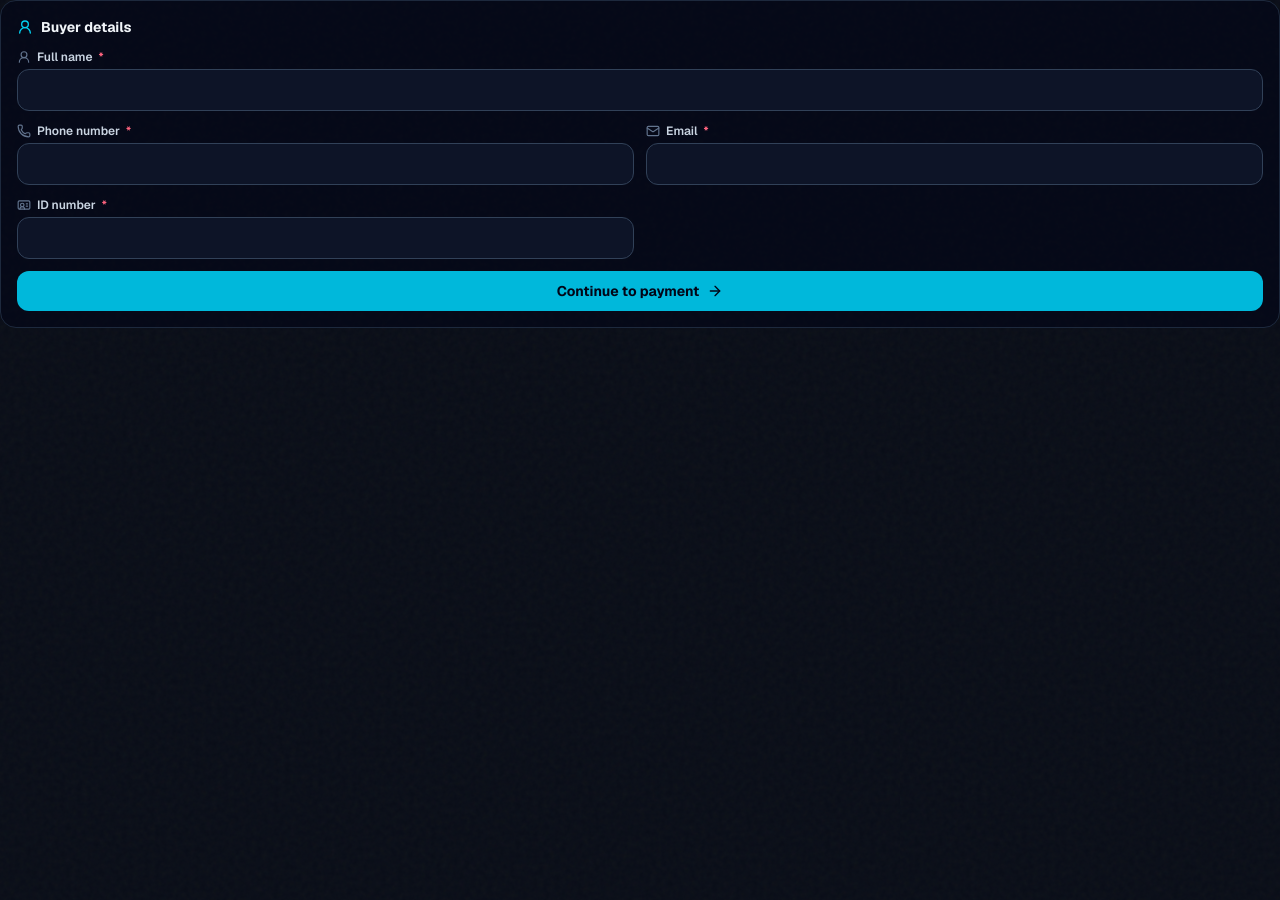
Test: BuyerForm error recovery › names each problem inline and links inputs to their errors
Click the button "Continue to payment" at x=640, y=291, box [17,271,1263,311]
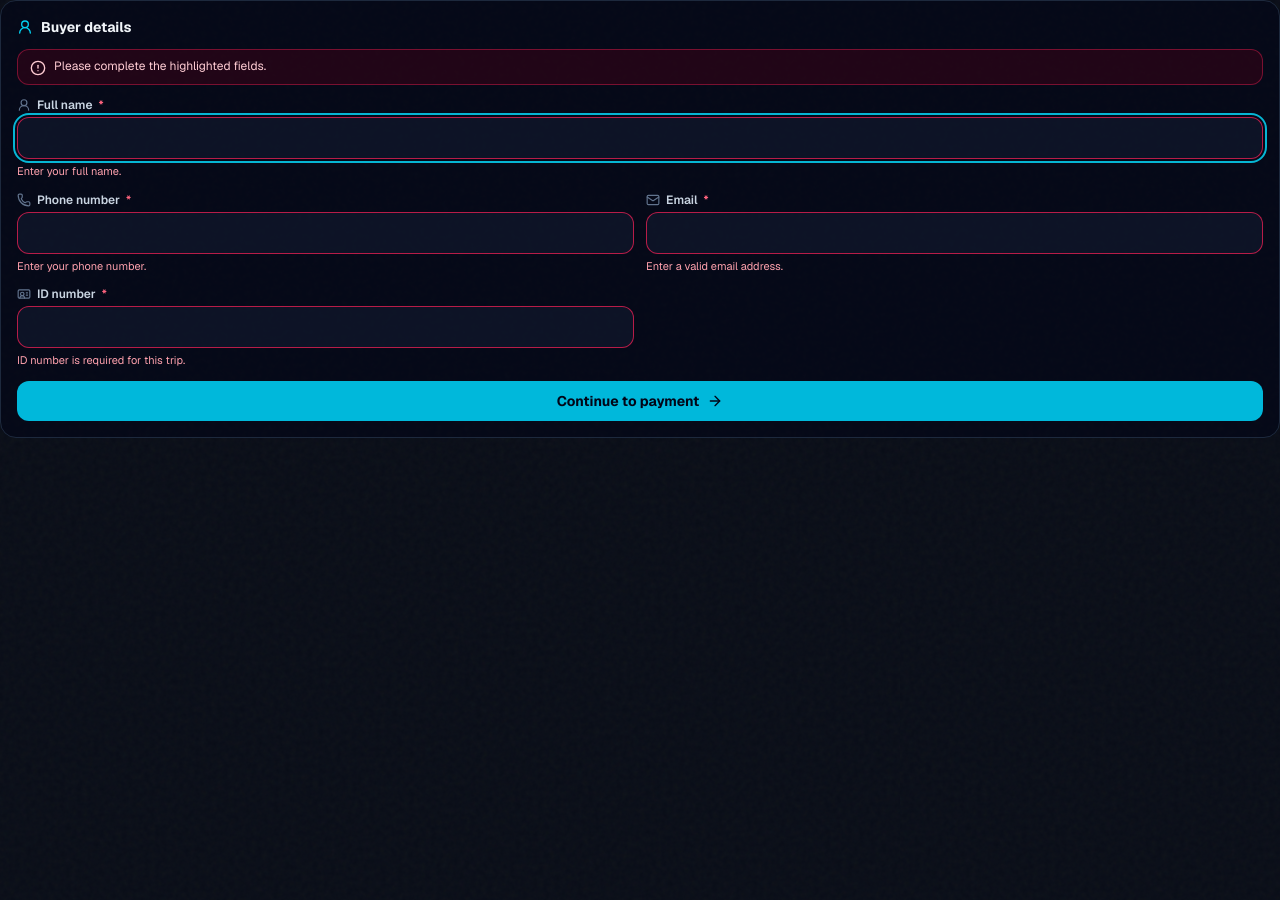
Now the text "Enter your full name." is shown, box [17,164,121,178]
Now the text "Enter a valid email address." is shown, box [646,258,783,272]
